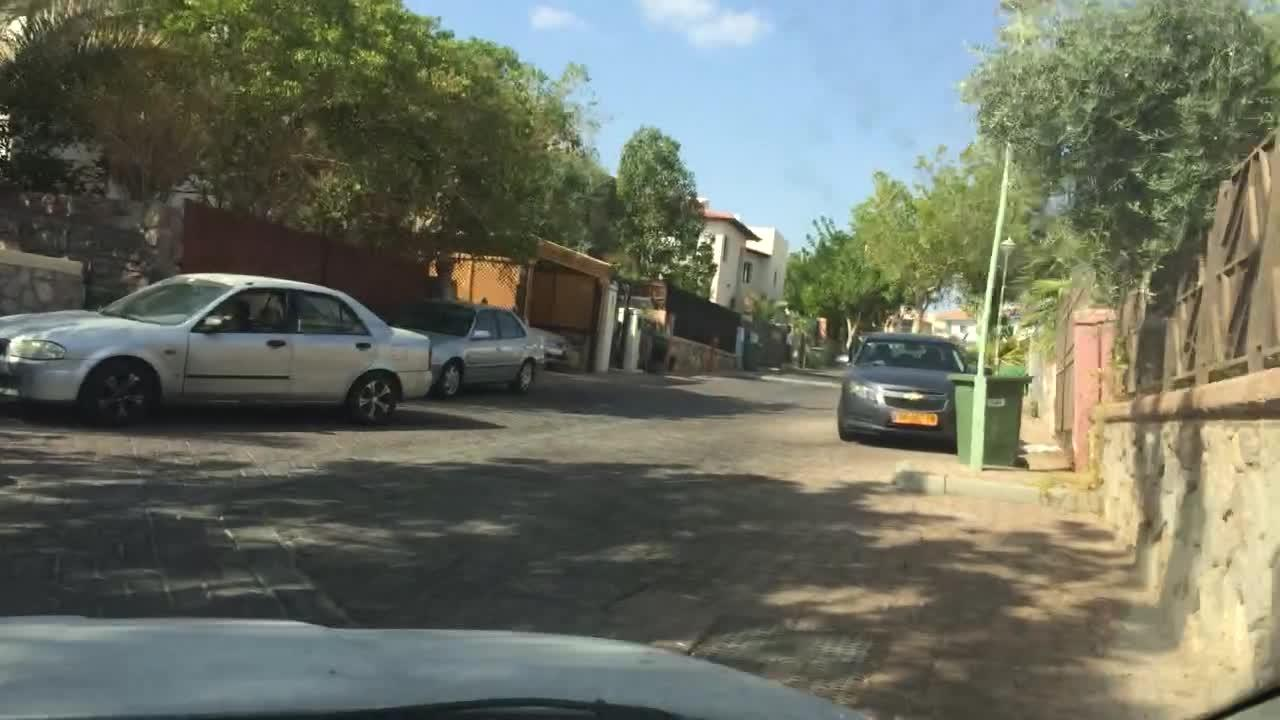chevrolet: (897, 389, 932, 405)
